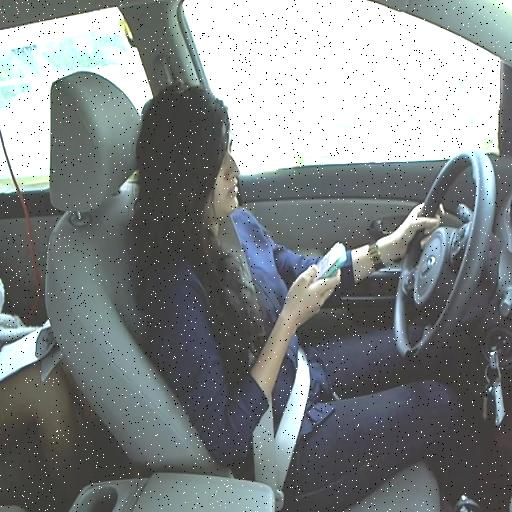texting_phone: (140, 91, 447, 414)
